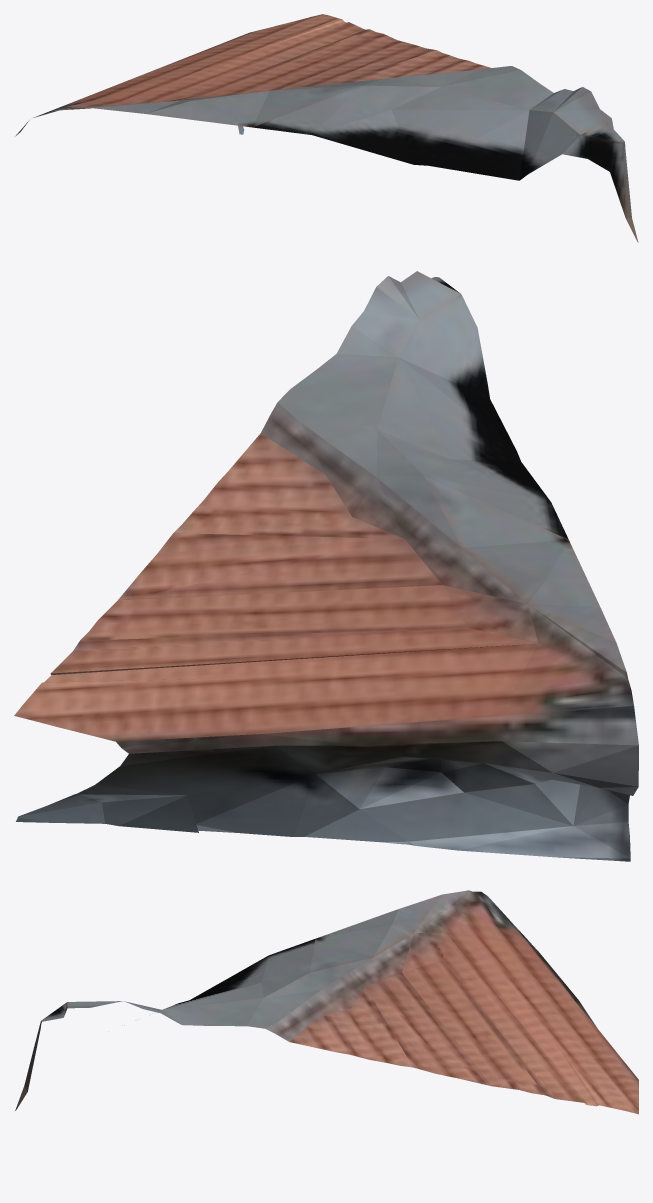
3 renders of one model, top to bottom at view 1: azimuth 30°, elevation 25°; view 2: azimuth 150°, elevation 25°; view 3: azimuth 270°, elevation 25°, orthographic. The views are drawn at different scales.
Size of the model in its own units: 5.02 by 2.47 by 7.27.
Materials: 1 (1 with a texture image).
